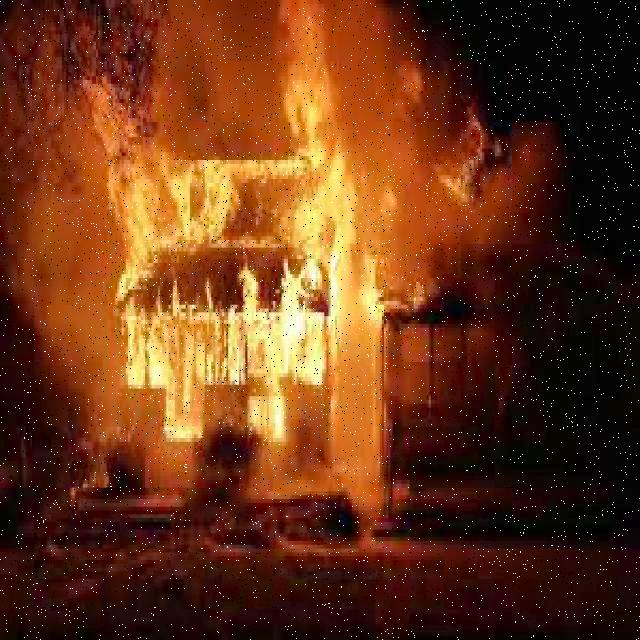fire: (95, 92, 405, 429)
